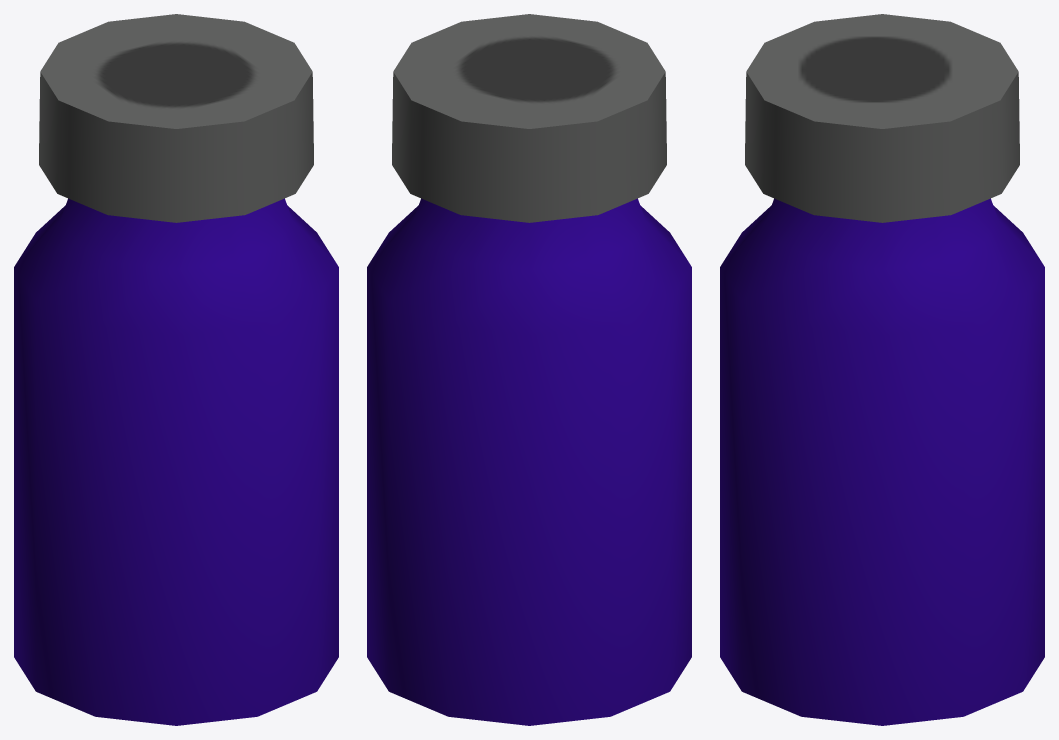
File: vial2.FBX
3 renders of one model, left to right at view 1: azimuth 30°, elevation 25°; view 2: azimuth 150°, elevation 25°; view 3: azimuth 270°, elevation 25°, orthographic.
Visible parts, largest first — view 1: vial2; view 2: vial2; view 3: vial2.
Boxes of the visible parts, left/top/right/bottom form: vial2: left=14, top=14, right=338, bottom=725; vial2: left=367, top=14, right=691, bottom=725; vial2: left=720, top=14, right=1044, bottom=725.
Size of the model in its own units: 2.15 by 2.15 by 4.28.
